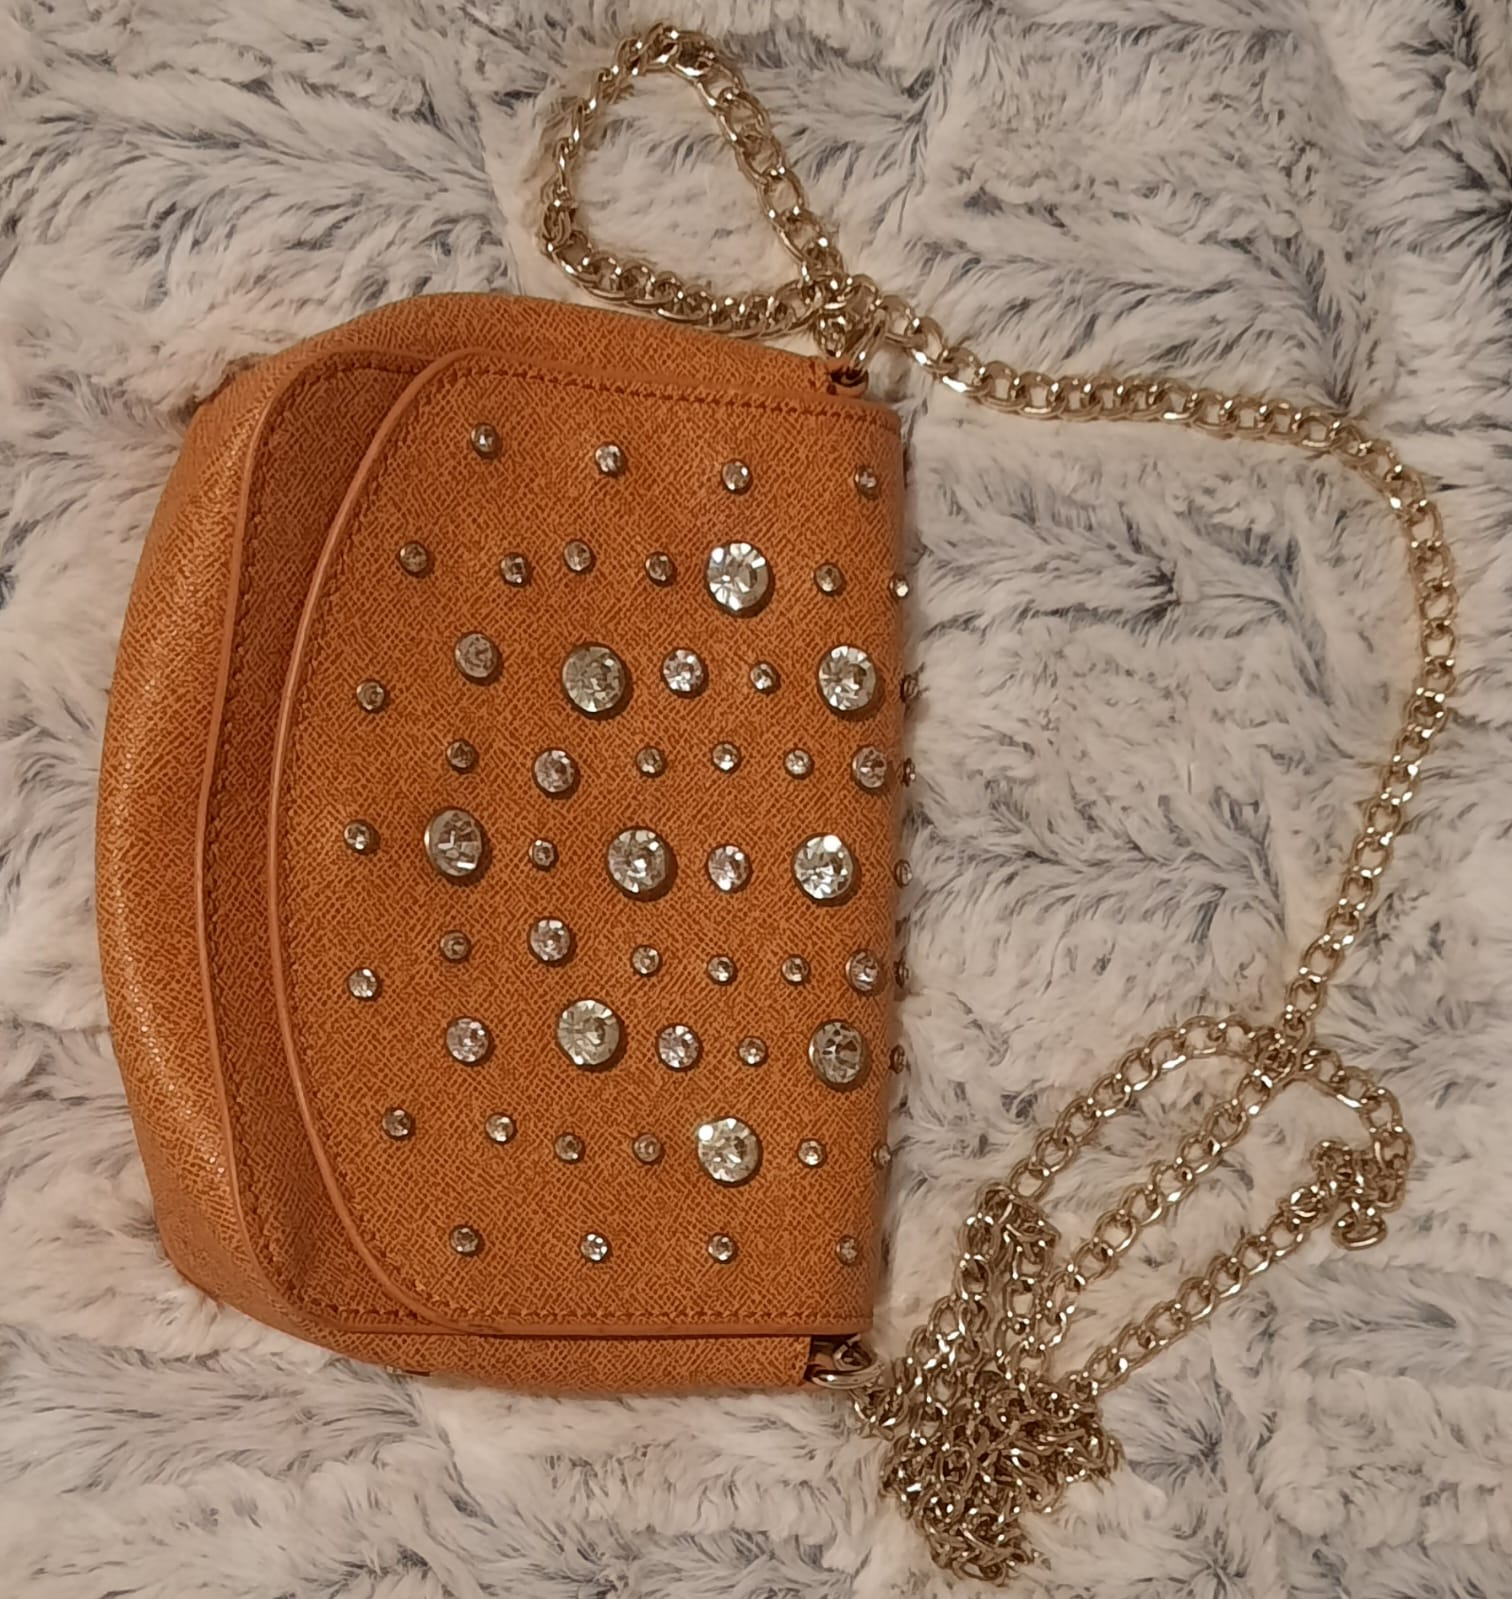cartera: (88, 215, 992, 1438)
cuero: (377, 611, 767, 1050)
